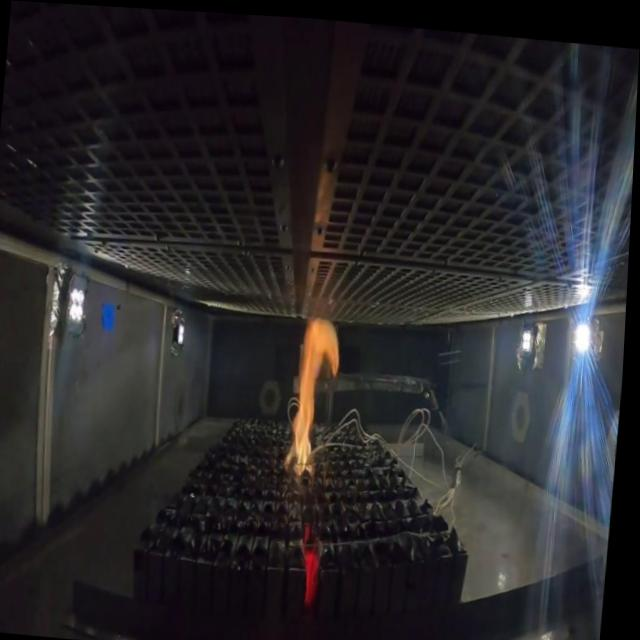fire: (289, 310, 349, 475)
